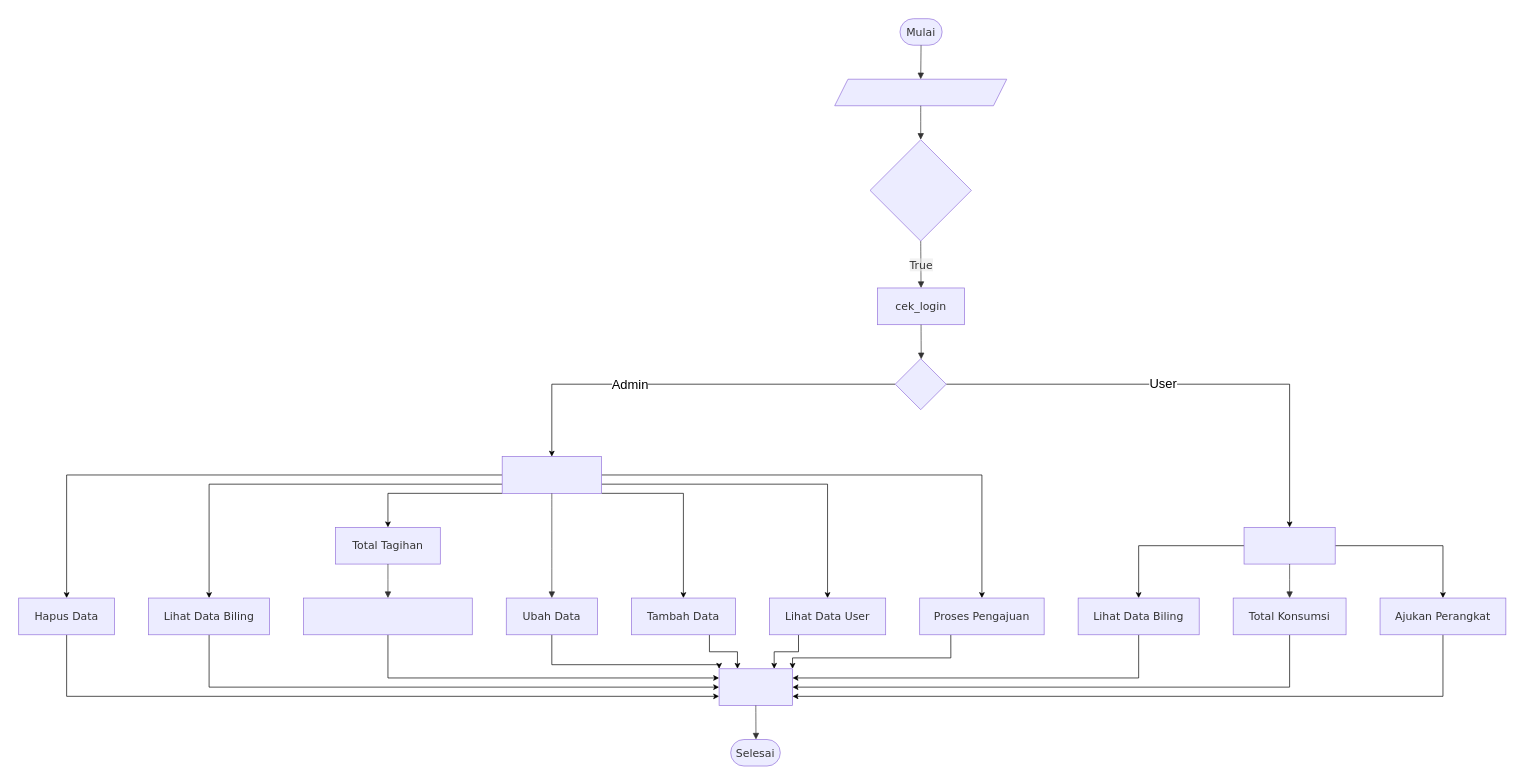
Image size: 1518x778. Some labels were removed from this diagram. Each missing label, with the box of its shape:
hitung_total_kwh_rekursif: (303, 597, 472, 635)
Input Username & Password: (834, 79, 1007, 106)
Login Valid?: (869, 139, 971, 241)
Logout: (718, 668, 793, 706)
Menu Admin: (502, 456, 601, 493)
Menu User: (1243, 527, 1335, 564)
Role?: (895, 358, 946, 410)
